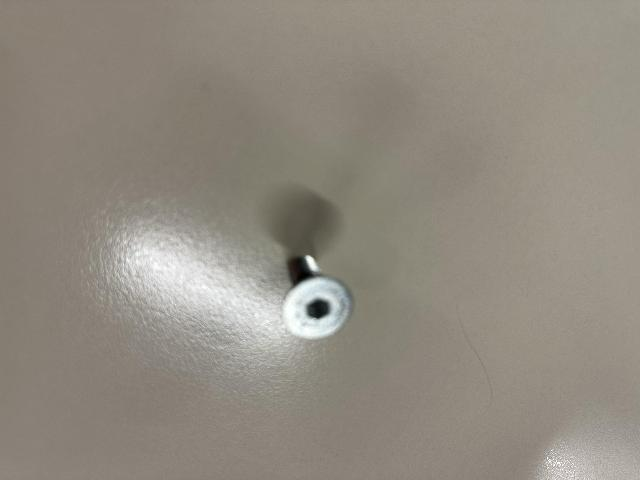Metal: (271, 233, 362, 346)
